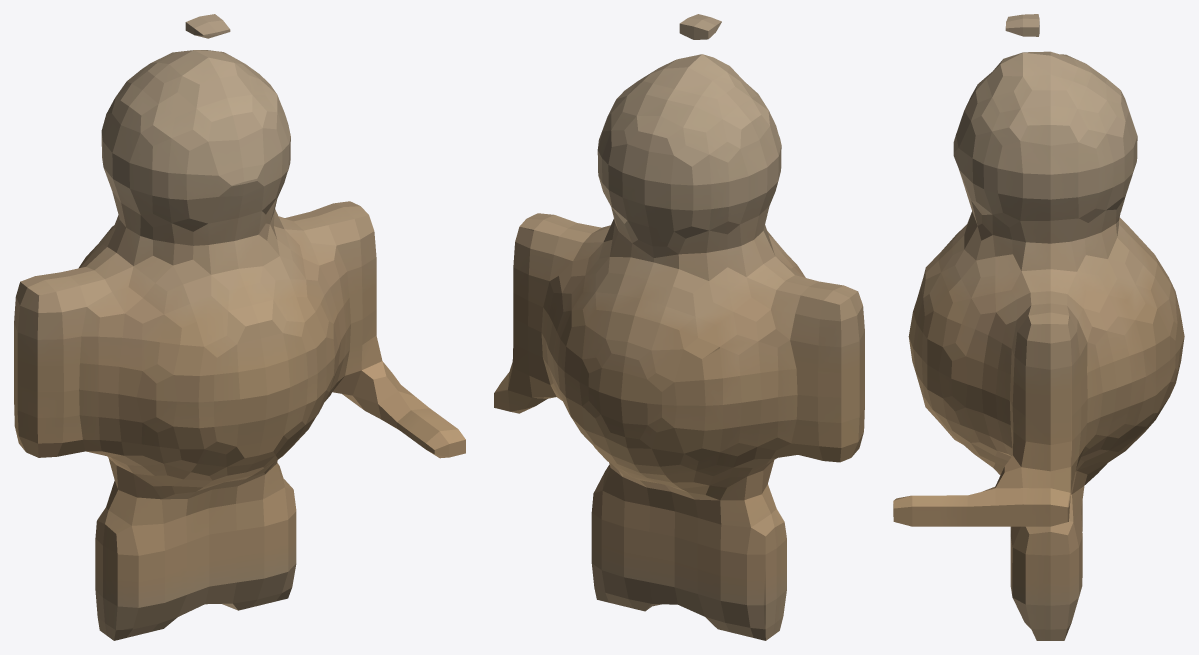
File: pondDokkaebi.glb
3 views of the same model, side by side, from view 1: azimuth 30°, elevation 25°; view 2: azimuth 150°, elevation 25°; view 3: azimuth 270°, elevation 25° (orthographic). The views are drawn at different scales.
Parts seen in each view (by area): view 1: geometry_0; view 2: geometry_0; view 3: geometry_0.
Boxes of the visible parts, <box> form: geometry_0: <box>14,14,465,640</box>; geometry_0: <box>494,14,864,640</box>; geometry_0: <box>893,14,1184,640</box>.
Size of the model in its own units: 0.6186 by 0.9654 by 0.4383.
Materials: 1 (1 with a texture image).
